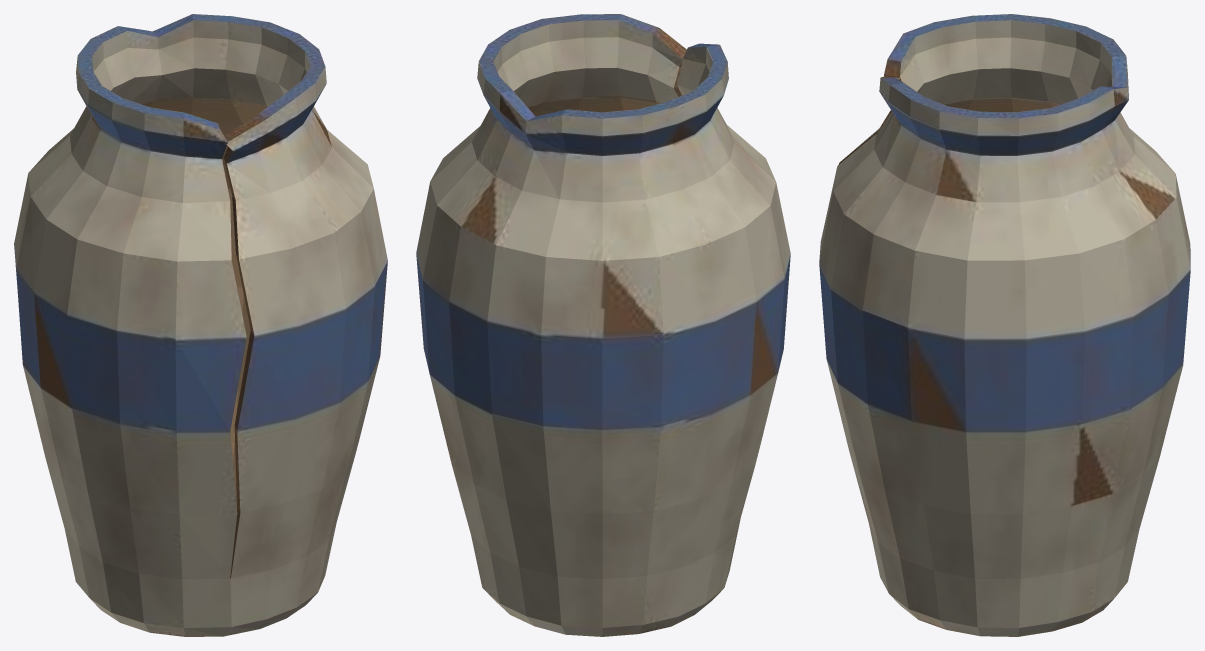
File: BR33_cracked_pots_v3.glb
The picture shows the model from 3 angles, left to right: view 1: azimuth 30°, elevation 25°; view 2: azimuth 150°, elevation 25°; view 3: azimuth 270°, elevation 25°; orthographic projection.
Parts seen in each view (by area): view 1: Split Storage Jar; view 2: Split Storage Jar; view 3: Split Storage Jar.
Boxes of the visible parts, box(x1,y1,x2,y2) form: Split Storage Jar: box(14, 14, 387, 636); Split Storage Jar: box(416, 14, 790, 636); Split Storage Jar: box(819, 14, 1190, 636).
Bounding box in the file's own units: 0.2575 × 0.4 × 0.2575.
4 materials, 4 textured.
